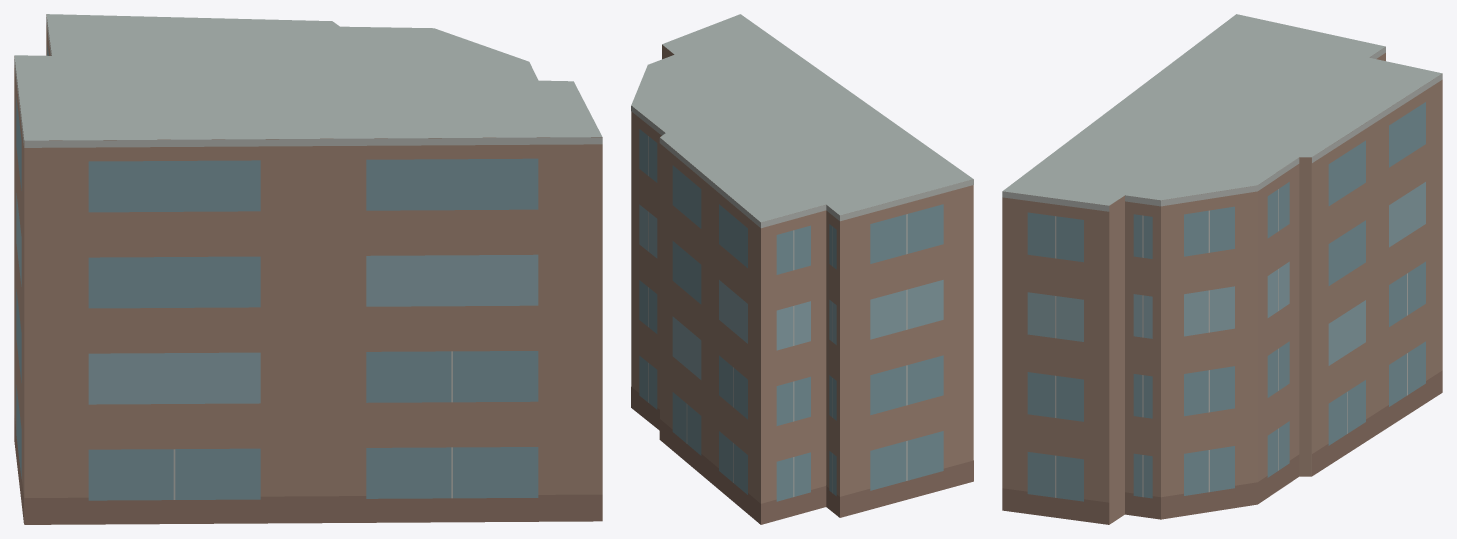
Rendered from survey-upis-32485200.glb.
3 renders of one model, left to right at view 1: azimuth 30°, elevation 25°; view 2: azimuth 150°, elevation 25°; view 3: azimuth 270°, elevation 25°, orthographic. The views are drawn at different scales.
Visible parts, largest first — view 1: survey-upis-32485200.tmp; view 2: survey-upis-32485200.tmp; view 3: survey-upis-32485200.tmp.
Part boxes in pixels (bbox=[...]): survey-upis-32485200.tmp: bbox=[14, 14, 602, 524]; survey-upis-32485200.tmp: bbox=[631, 14, 973, 524]; survey-upis-32485200.tmp: bbox=[1002, 14, 1442, 524].
Size of the model in its own units: 16.5 by 12.8 by 16.02.
